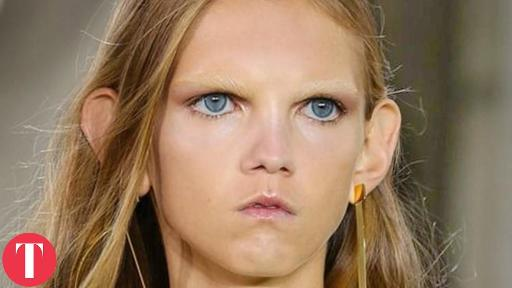left_eye: (295, 99, 349, 122), (89, 92, 118, 105)
left_lip_corner: (284, 203, 298, 221)
right_eye: (185, 92, 246, 117)
right_lip_corner: (228, 203, 247, 217)
